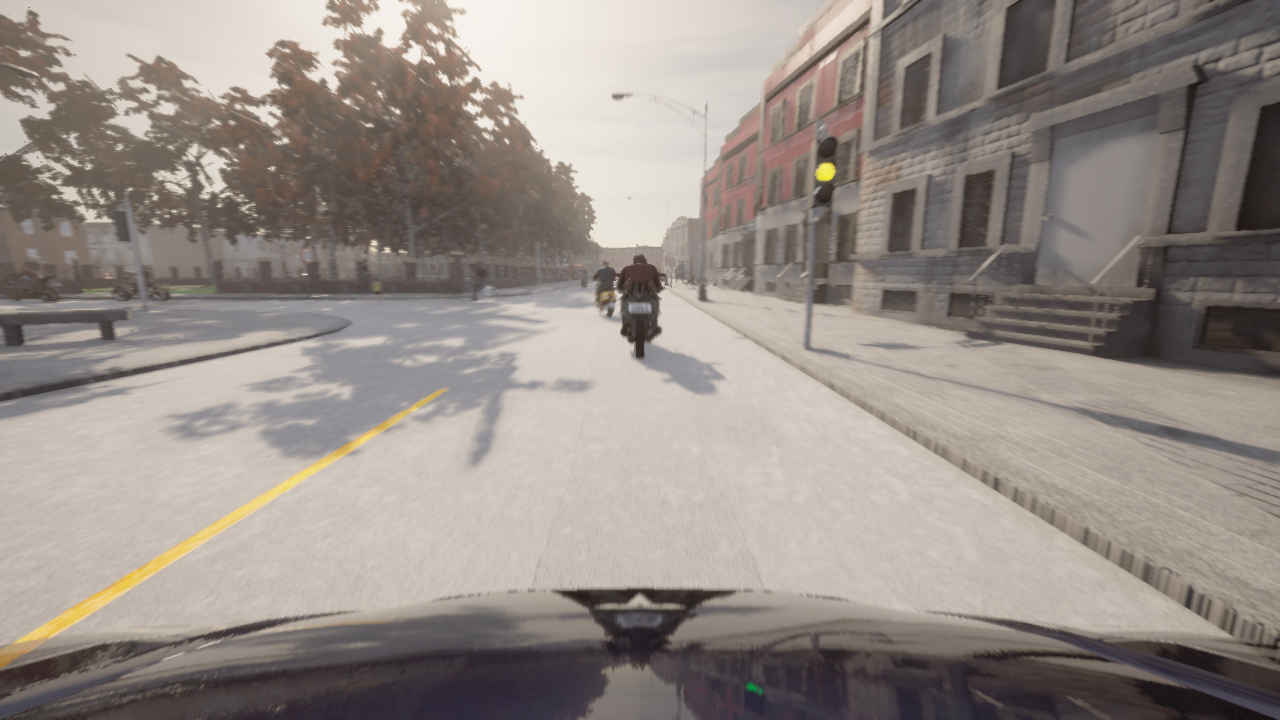cyclist: (0, 588, 1279, 719), (614, 273, 665, 358), (111, 271, 170, 301), (0, 273, 61, 301), (588, 272, 616, 316), (456, 275, 497, 302), (580, 274, 587, 287)
pedestrian: (361, 258, 373, 294), (371, 277, 381, 304)
